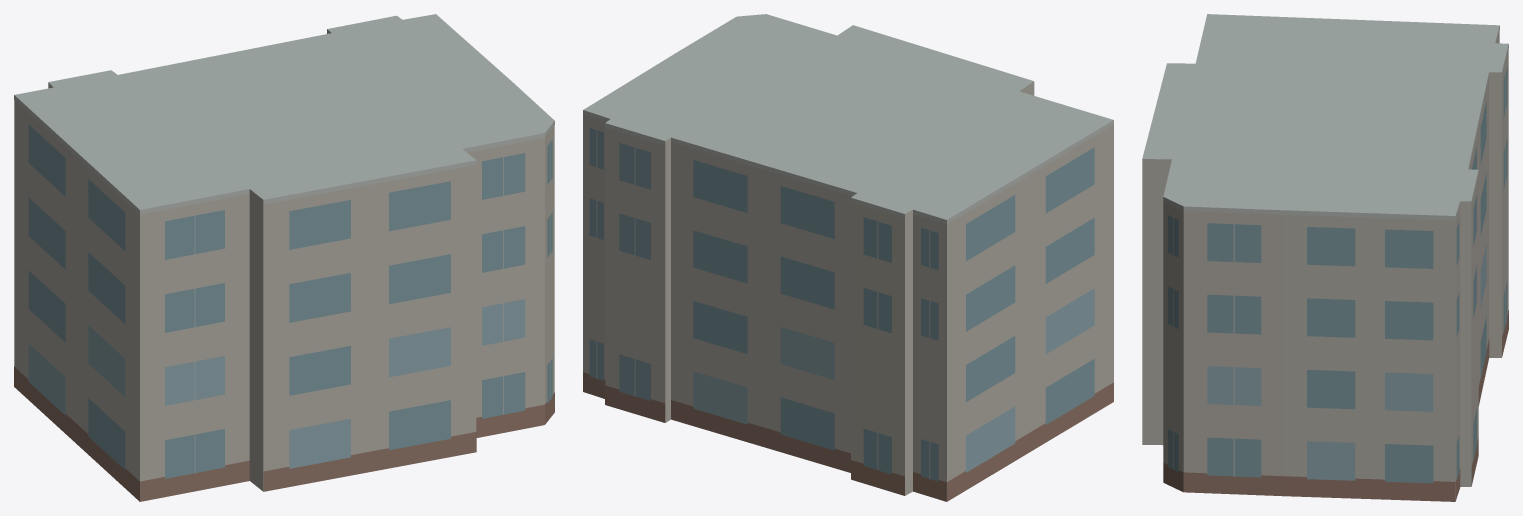
Rendered from survey-upis-32491344.glb.
3 views of the same model, side by side, from view 1: azimuth 30°, elevation 25°; view 2: azimuth 150°, elevation 25°; view 3: azimuth 270°, elevation 25° (orthographic). The views are drawn at different scales.
Parts seen in each view (by area): view 1: survey-upis-32491344.tmp; view 2: survey-upis-32491344.tmp; view 3: survey-upis-32491344.tmp.
Boxes of the visible parts, <box> form: survey-upis-32491344.tmp: <box>14,14,554,501</box>; survey-upis-32491344.tmp: <box>583,14,1113,501</box>; survey-upis-32491344.tmp: <box>1142,14,1508,501</box>.
Bounding box in the file's own units: 23.26 × 15.34 × 17.84.
